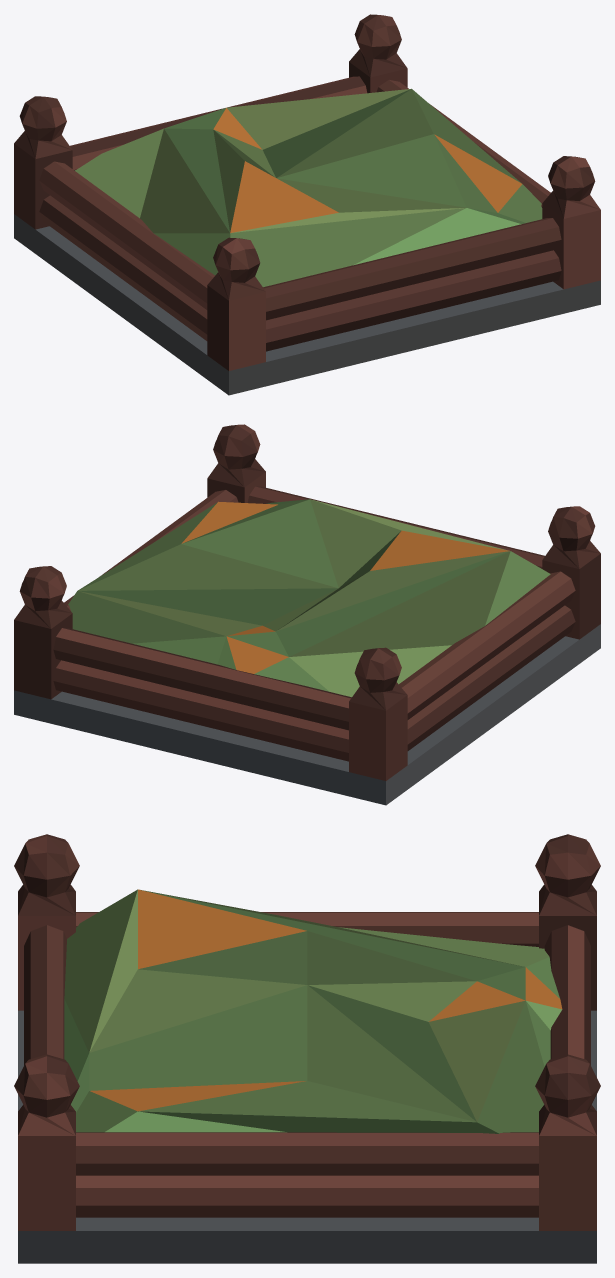
Rendered from Prop_PlanterD.fbx.
The picture shows the model from 3 angles, top to bottom: view 1: azimuth 30°, elevation 25°; view 2: azimuth 150°, elevation 25°; view 3: azimuth 270°, elevation 25°; orthographic projection. The views are drawn at different scales.
Parts seen in each view (by area): view 1: Prop_PlanterD; view 2: Prop_PlanterD; view 3: Prop_PlanterD.
Part boxes in pixels (left/top/right/bottom): Prop_PlanterD: left=14, top=14, right=600, bottom=395; Prop_PlanterD: left=14, top=424, right=600, bottom=805; Prop_PlanterD: left=14, top=834, right=600, bottom=1263.
Bounding box in the file's own units: 203 × 74.45 × 203.
